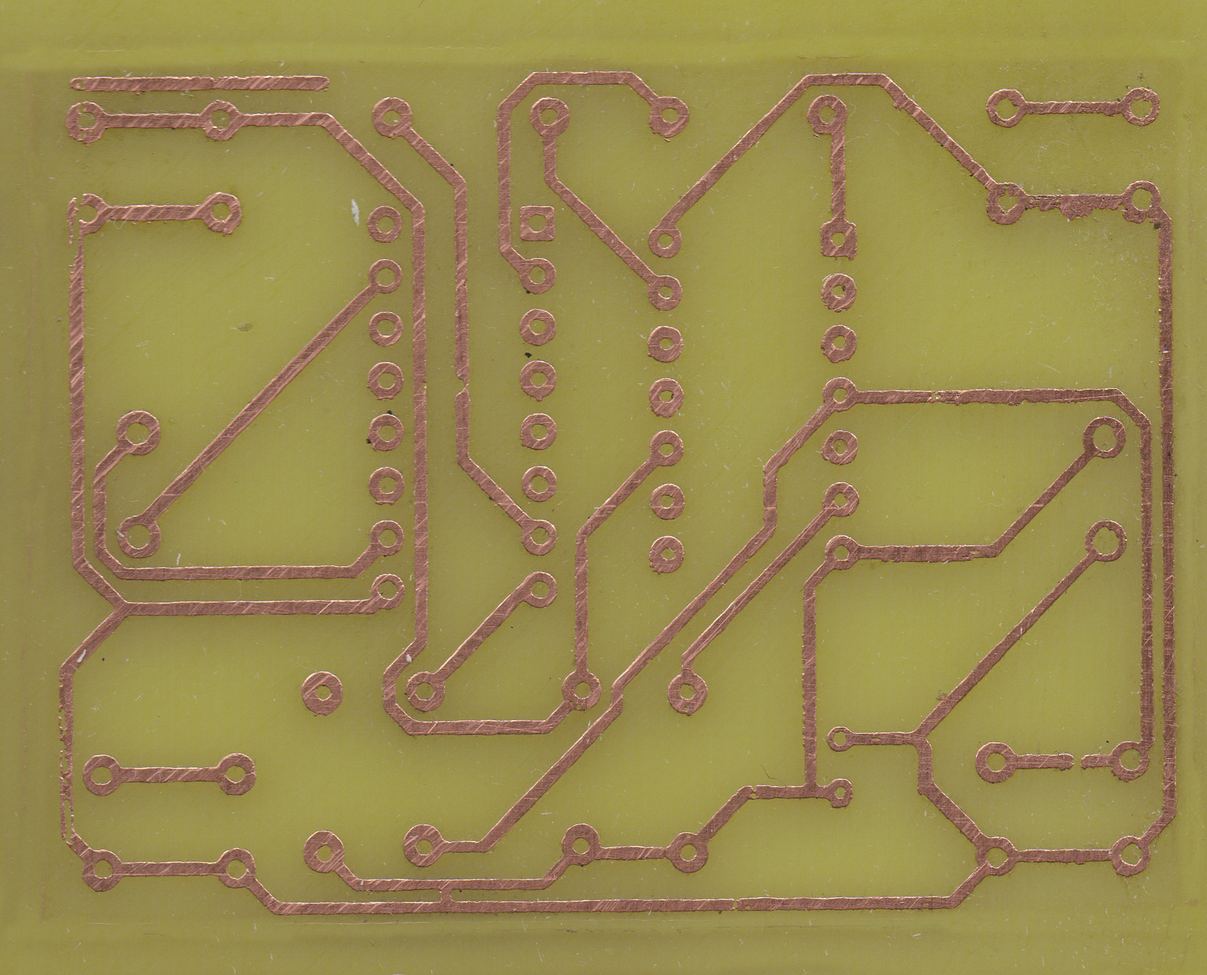missing_hole: (62, 195, 112, 236)
mouse_bite: (54, 796, 79, 848), (55, 742, 74, 792), (454, 362, 473, 405), (55, 704, 76, 736), (748, 784, 759, 800)
open_circuit: (1063, 750, 1094, 778)
short: (433, 876, 457, 921)
spur: (1056, 186, 1099, 225), (885, 90, 918, 119)
spurious_copper: (69, 72, 337, 97)
